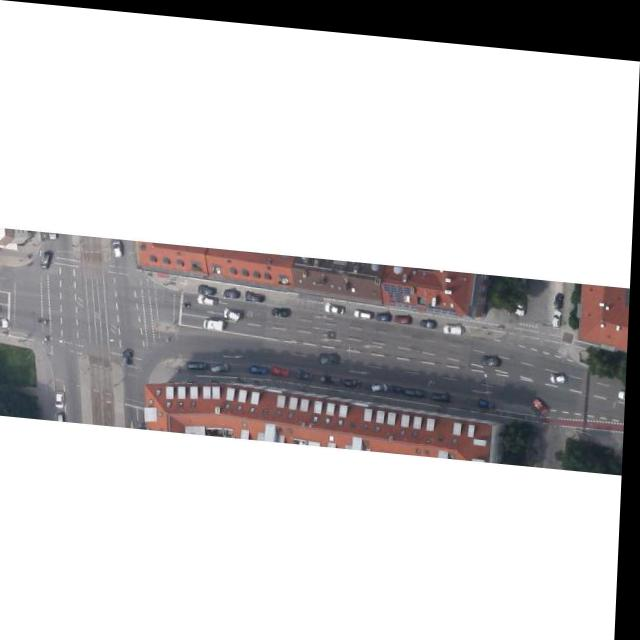vehicle: (534, 386, 554, 404), (205, 313, 228, 326), (445, 313, 467, 326), (322, 345, 343, 357), (225, 303, 244, 316), (484, 344, 504, 356), (246, 286, 267, 297), (553, 360, 570, 373), (200, 290, 220, 301), (125, 344, 137, 362), (378, 302, 395, 314), (215, 356, 233, 367), (300, 363, 316, 375), (200, 280, 219, 290), (327, 296, 346, 306), (43, 250, 54, 267), (224, 283, 241, 294), (554, 297, 564, 315), (519, 286, 529, 304), (276, 361, 292, 372), (435, 383, 454, 392), (115, 237, 125, 254), (481, 389, 498, 399), (356, 302, 374, 311), (422, 309, 438, 319), (190, 357, 210, 365), (324, 369, 344, 377), (348, 371, 364, 381), (375, 374, 390, 384), (275, 301, 293, 309), (398, 306, 414, 315), (557, 280, 566, 296), (254, 359, 270, 368), (410, 380, 428, 388), (0, 317, 11, 329), (59, 390, 67, 406), (394, 377, 406, 385)
